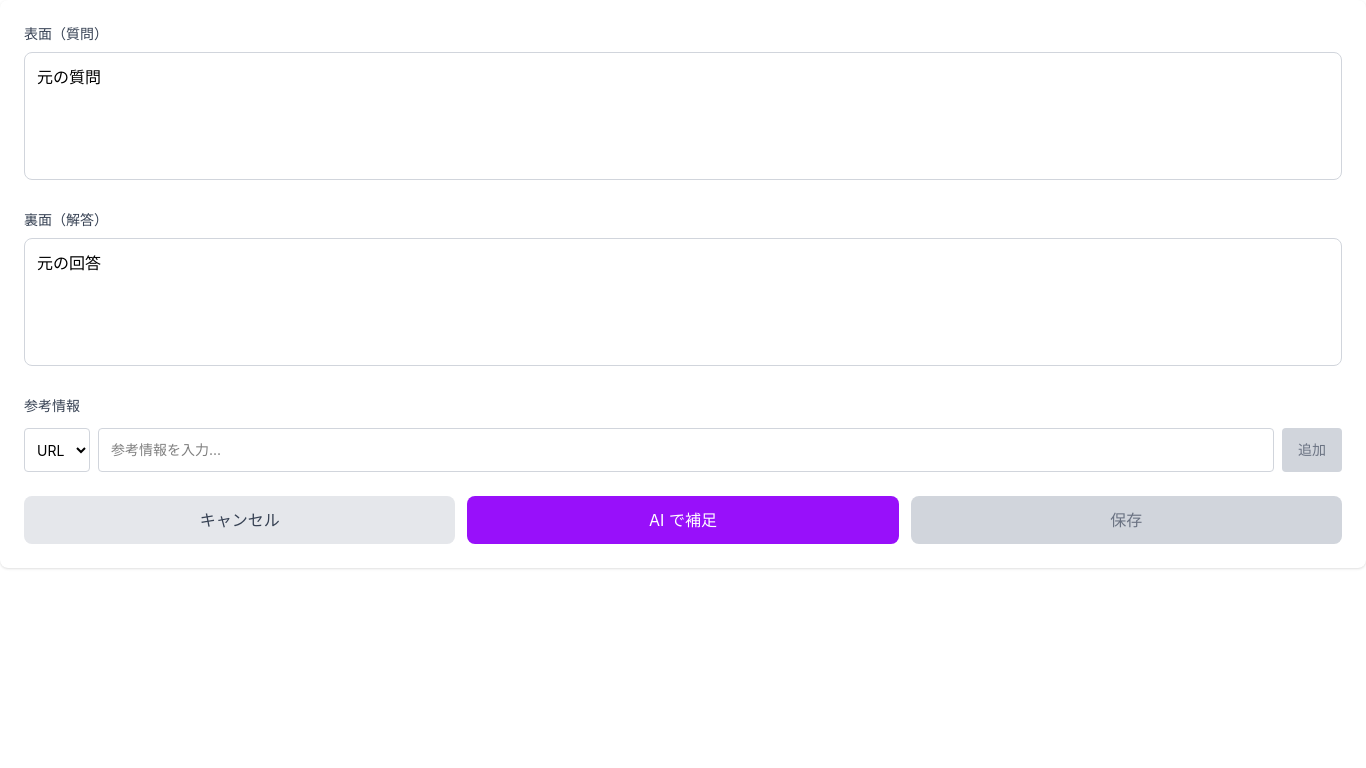
Test: CardForm › AI で補足 › AI で補足中はボタンに「AI 処理中...」と表示される
Click the button with test id "refine-button". click: {"x": 683, "y": 520}
box: 467,496 -> 899,544
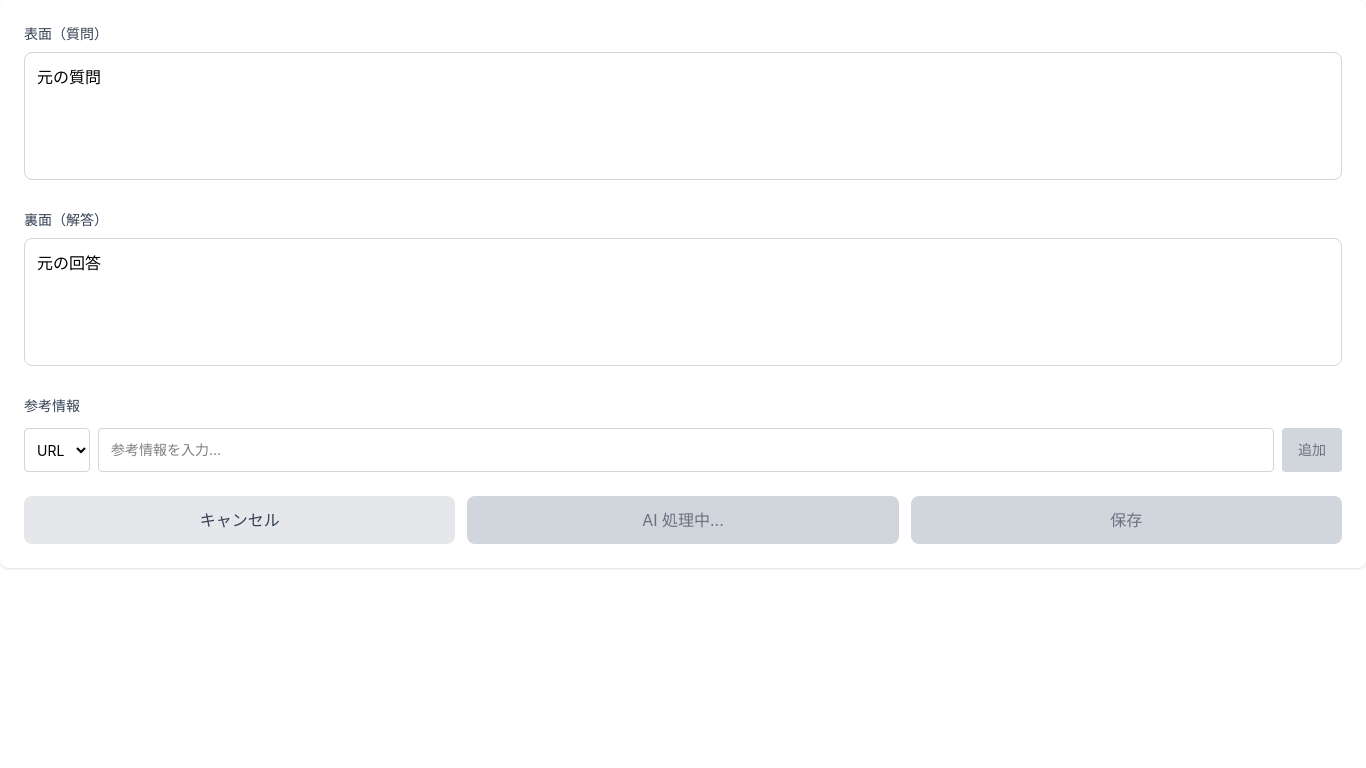
Check: the button with test id "refine-button" reads "AI 処理中...", box 467,496 -> 899,544
Check: the button with test id "refine-button" is disabled, box 467,496 -> 899,544
